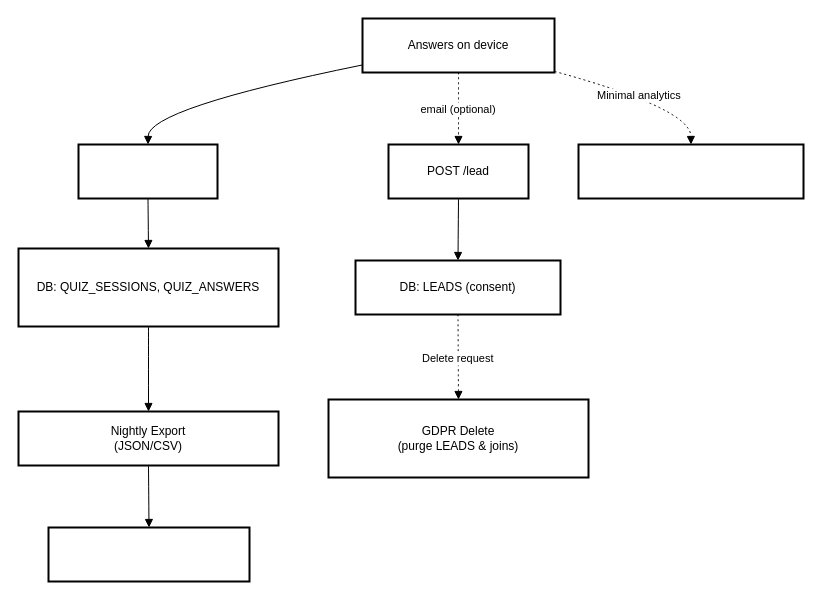
The diagram is 821 pixels wide and 599 high, and some of its shapes have lost their labels. Here are the shapes that lost their labels. From the top down, the centre of each, then its label:
At (147,171): "POST /quiz".
At (690,171): "PostHog events (no PII)".
At (148,554): "ML Staging (bucket)".
